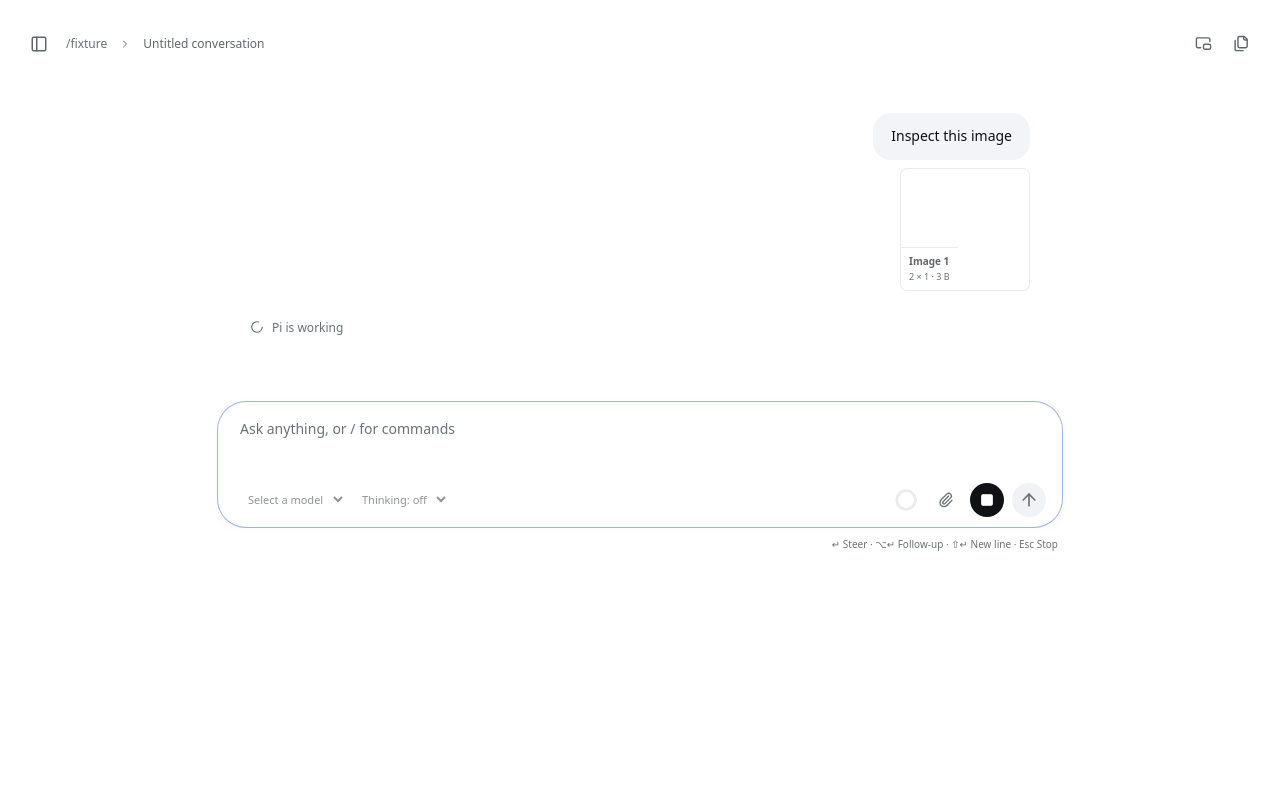
Test case: closes the real lightbox without aborting a busy session, but still stops on a subsequent Escape
Later steps or results of the test are not shown.
Expected: the button named "Stop generation" is shown, [970, 482, 1004, 516]
Click the button with aria-label "Open Image 1" at (965, 229), box [900, 168, 1030, 290]
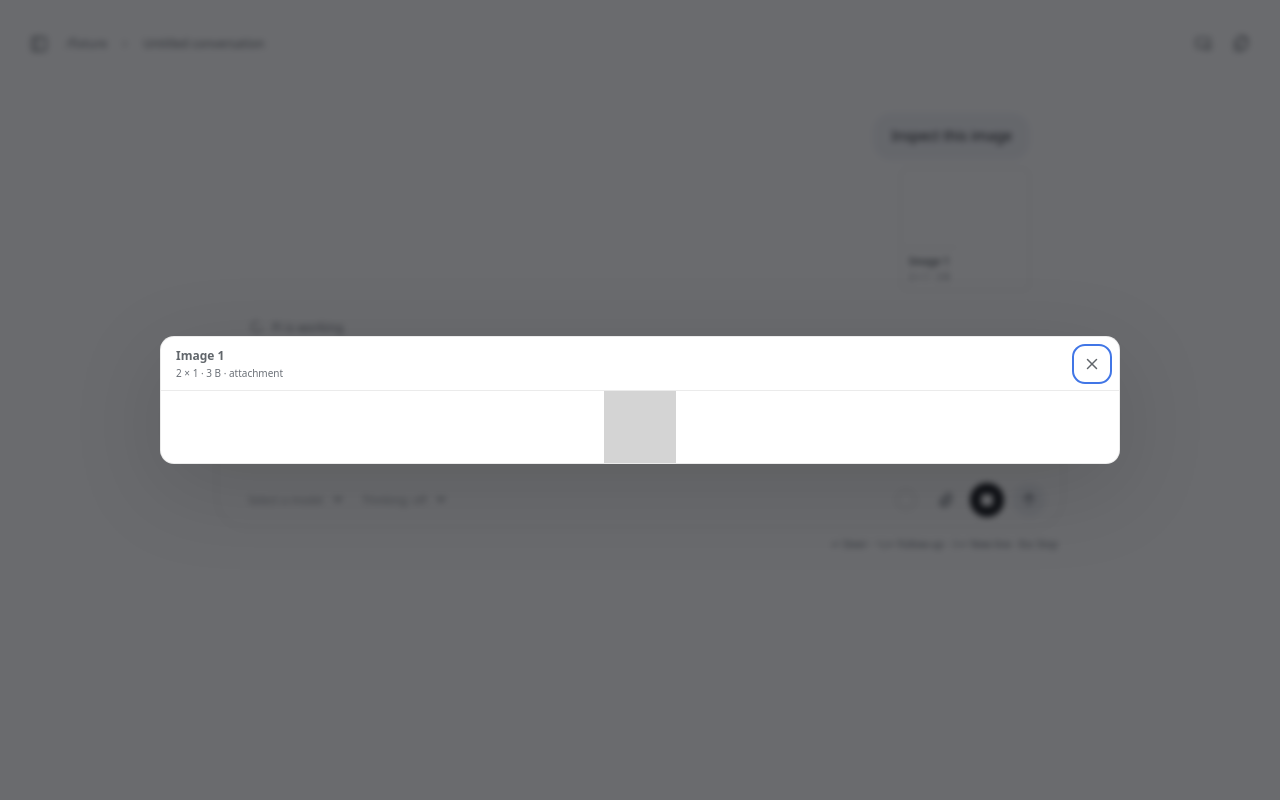
Press Tab in the button named "Close image", box [1077, 348, 1107, 378]
Press Tab in the button named "Close image", box [1077, 348, 1107, 378]
Note: Bypass document listeners to exercise SessionView's window-level modal guard.
Press Escape
Note: Normal bubbling reaches ImageLightbox first and must not reach the stop handler.
Press Escape in the button named "Close image", box [1077, 348, 1107, 378]
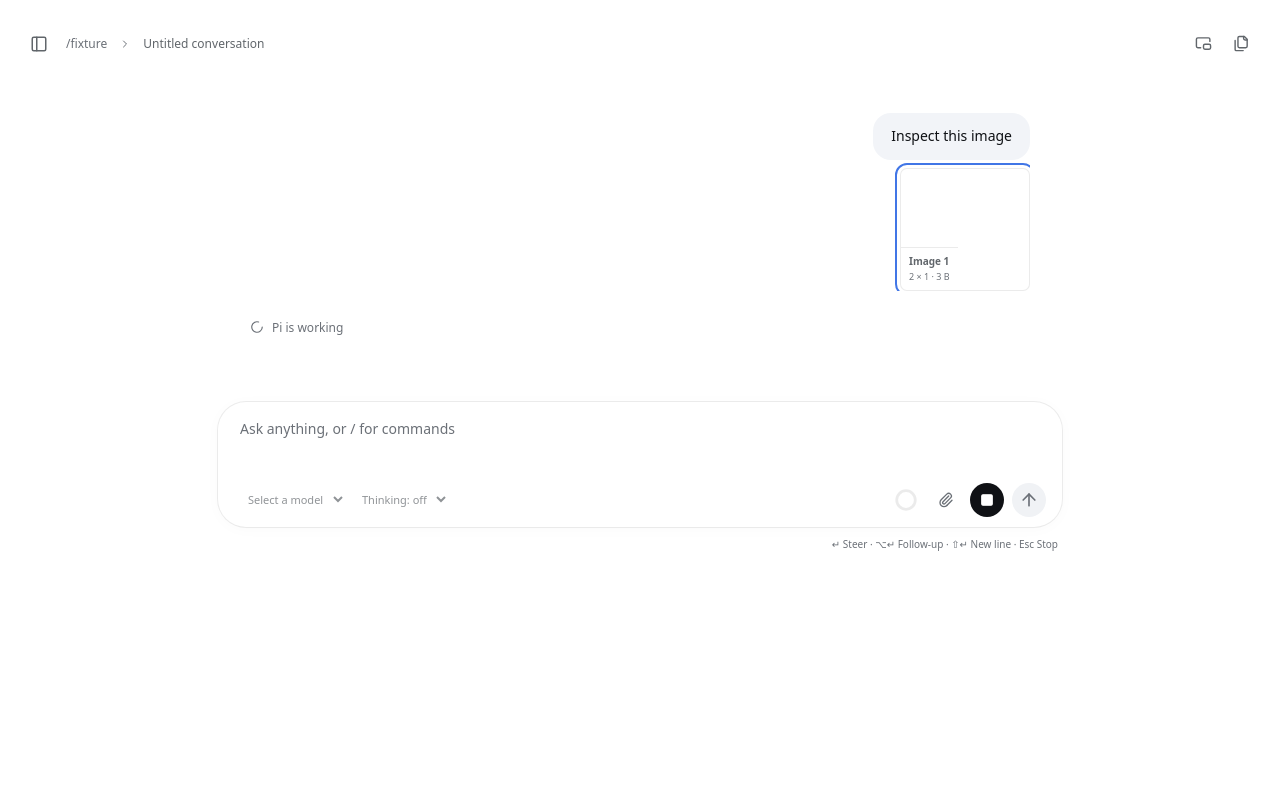
Expected: the button named "Stop generation" is shown, [970, 482, 1004, 516]
Result: the dialog is gone
